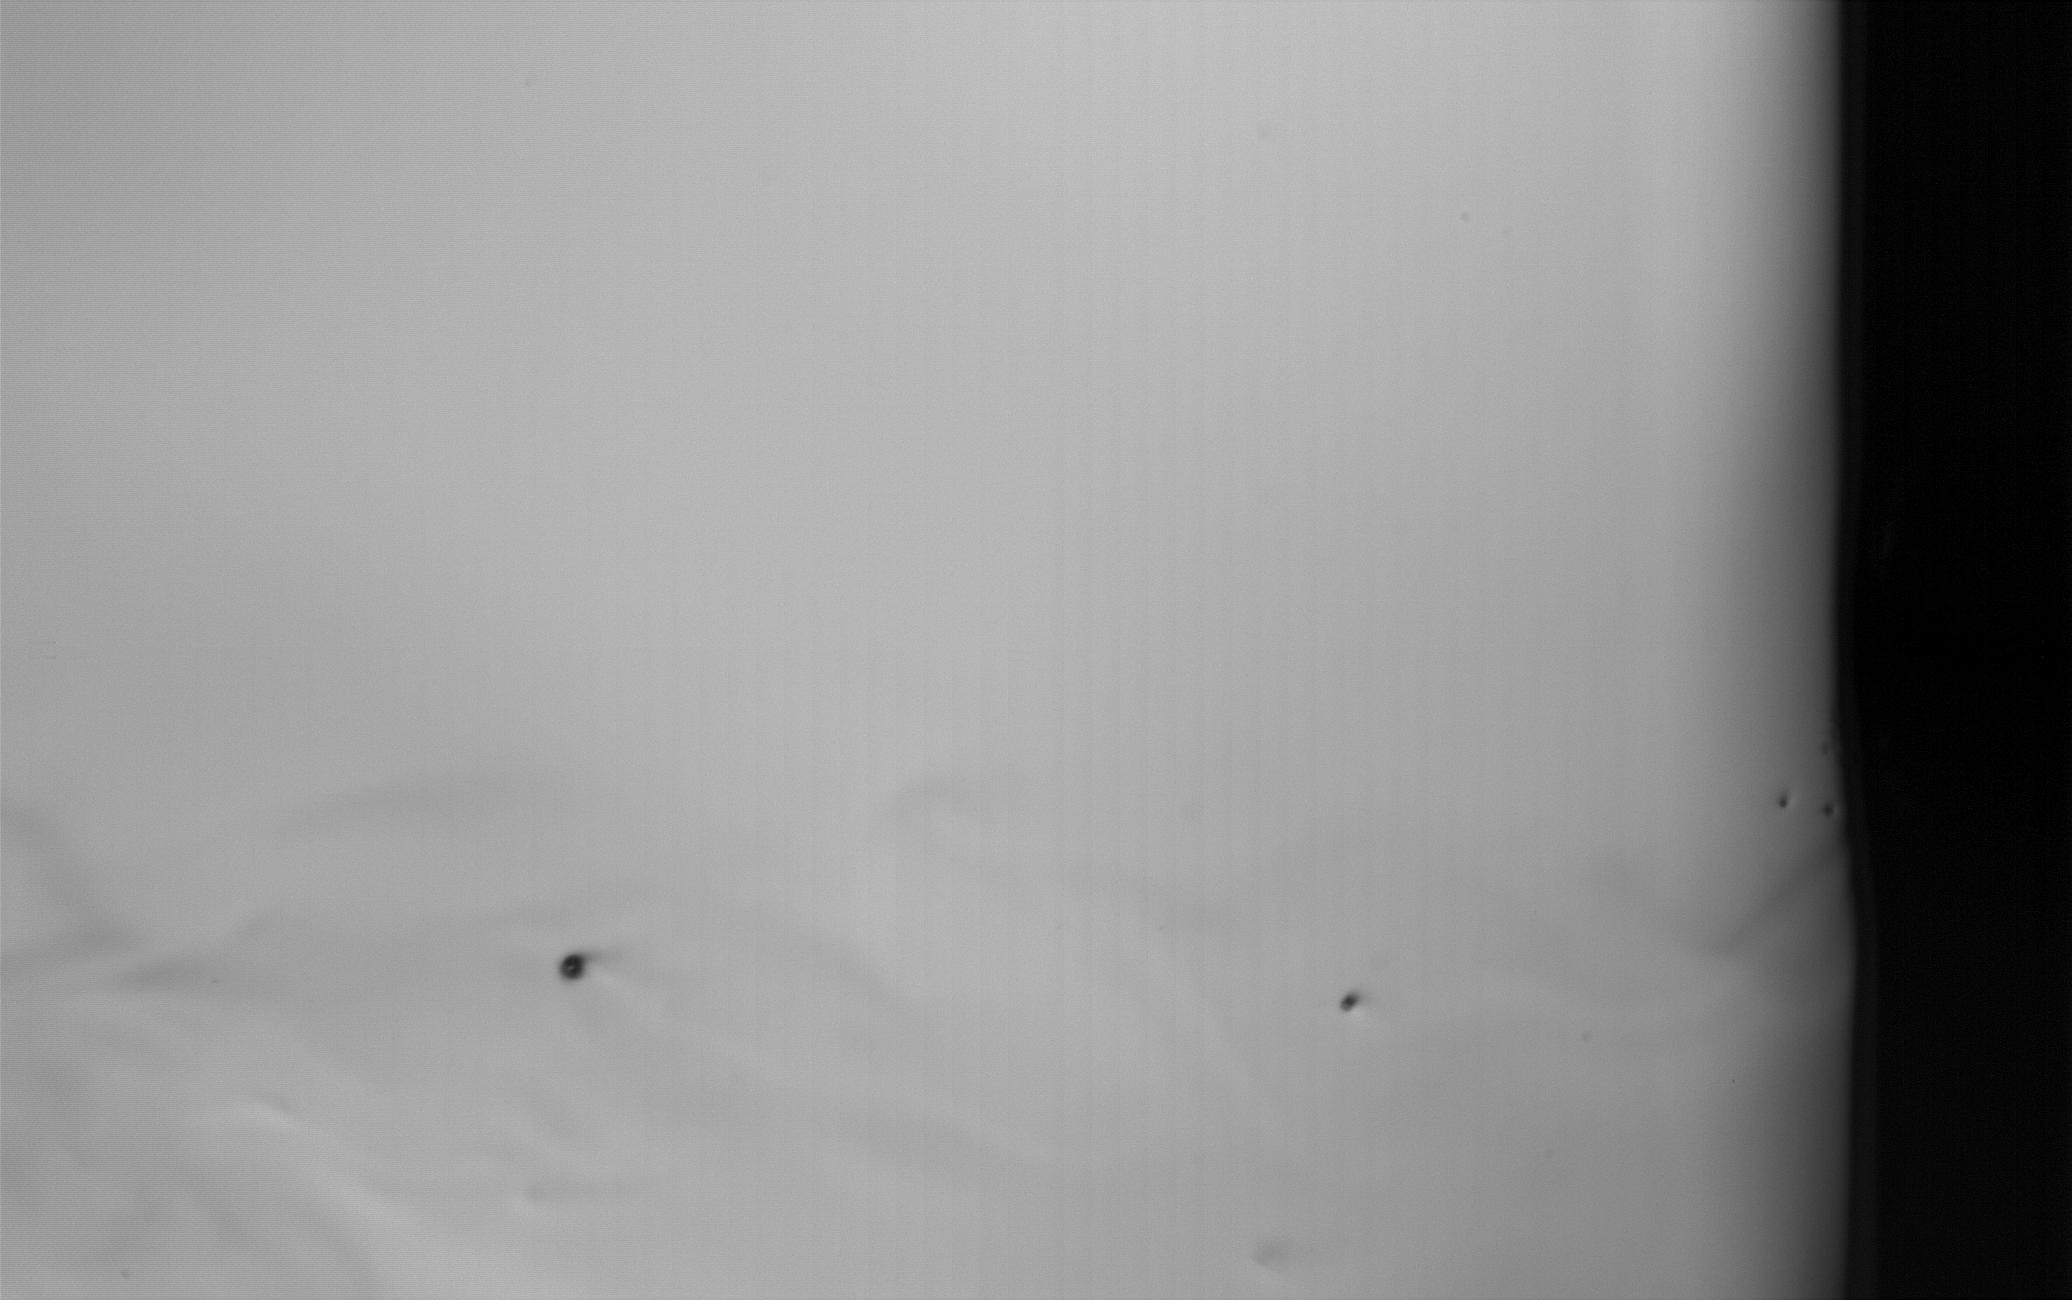Blurry: (1244, 1236, 1302, 1278)
ClassicalEvaporation: (552, 947, 591, 988), (1334, 984, 1364, 1018), (1773, 791, 1794, 812), (1820, 801, 1841, 822)
